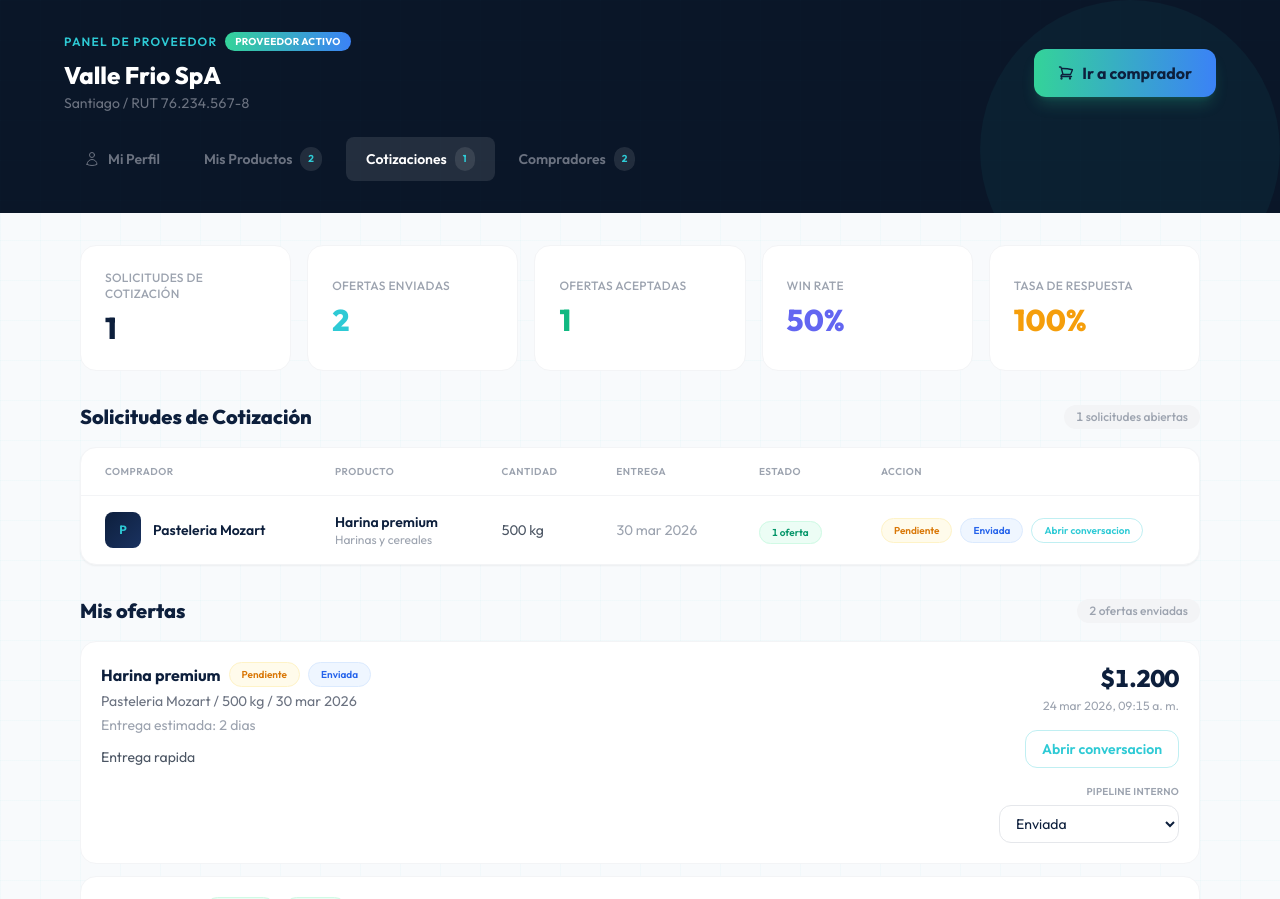
SupplierDashboard › aplica feature gates para plan starter cuando el limite mensual ya fue usado
Click the button "Mis Productos 2": (263, 159) 184,137 -> 342,181
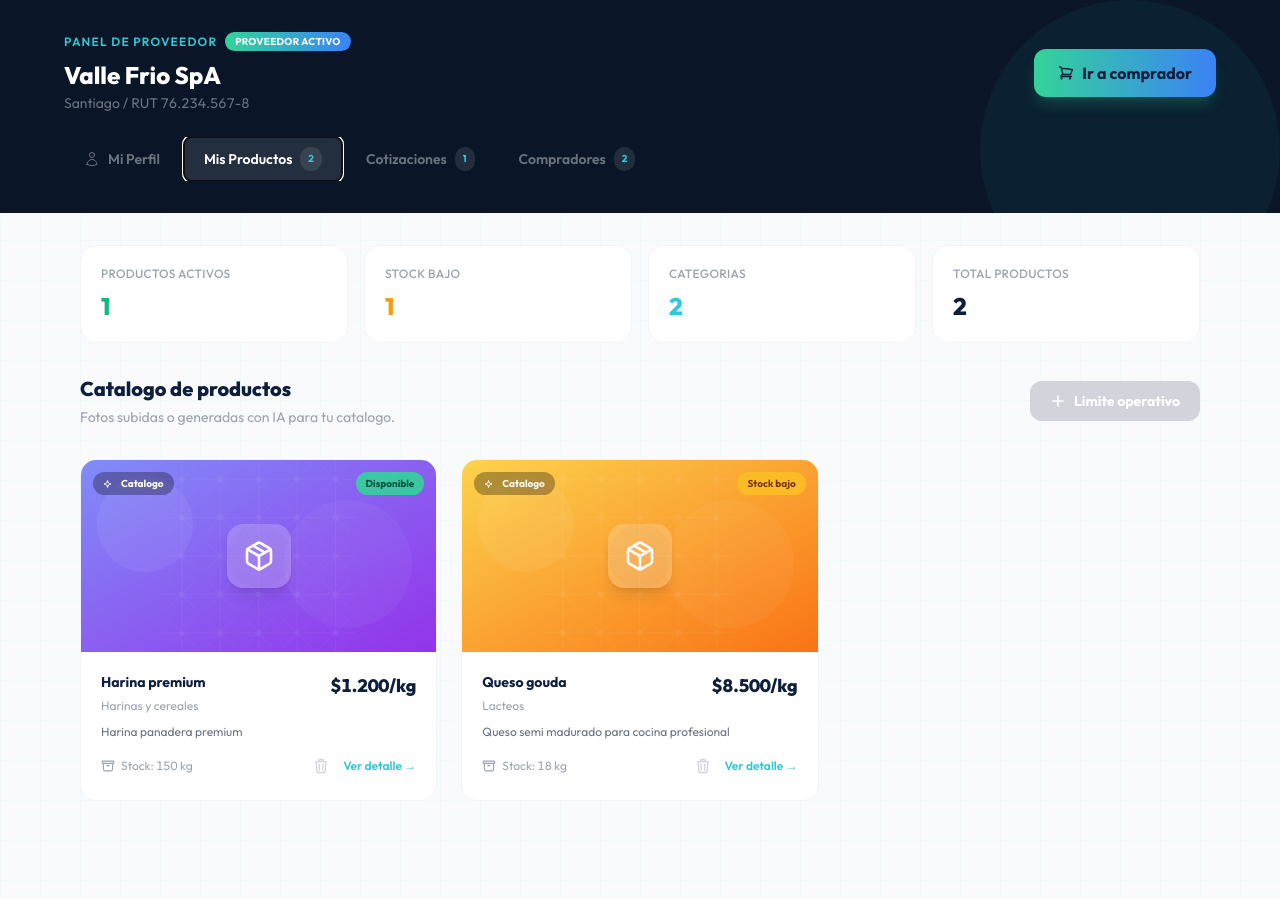
Now the button "Limite operativo" is shown, box 1030,381 -> 1200,421
